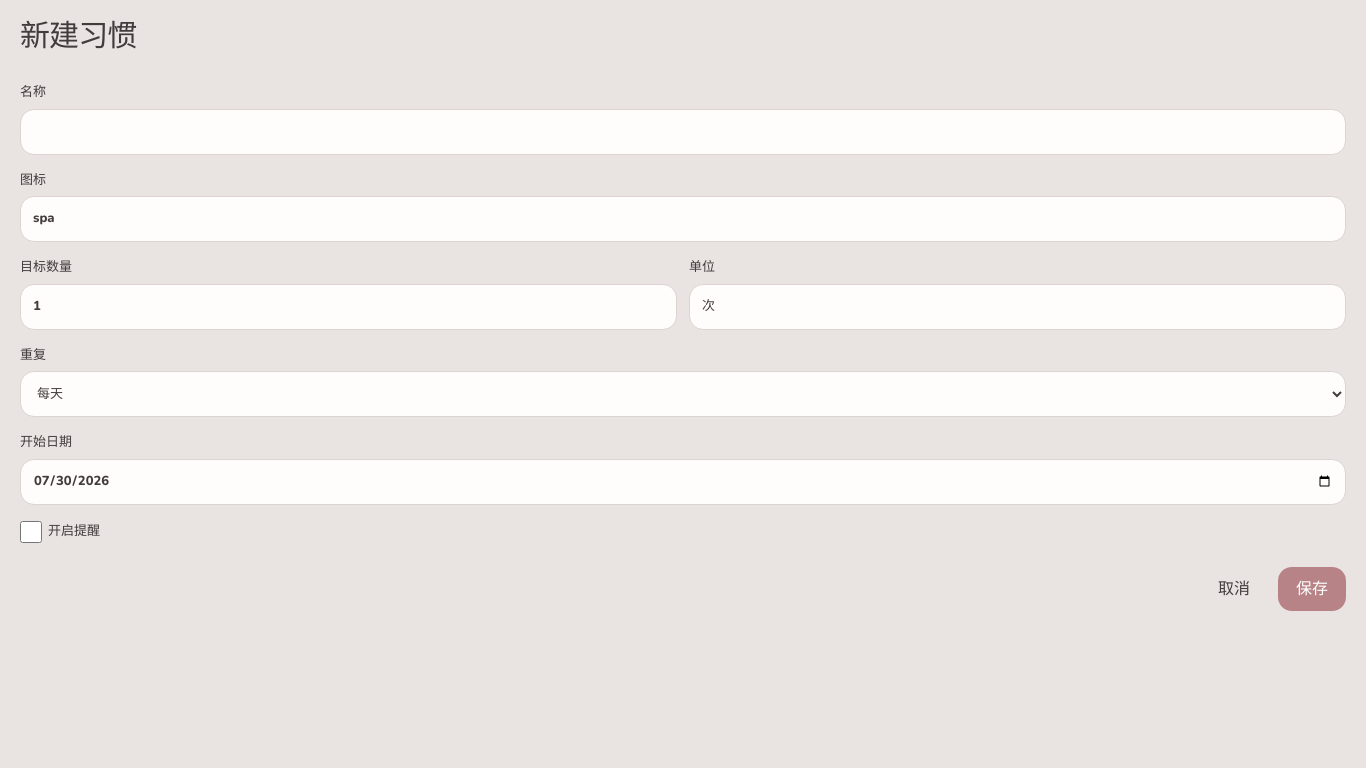
it: switches schedule fields with frequency
Select "每周" in the dropdown labelled "重复" at [683, 394], box [20,371,1346,417]
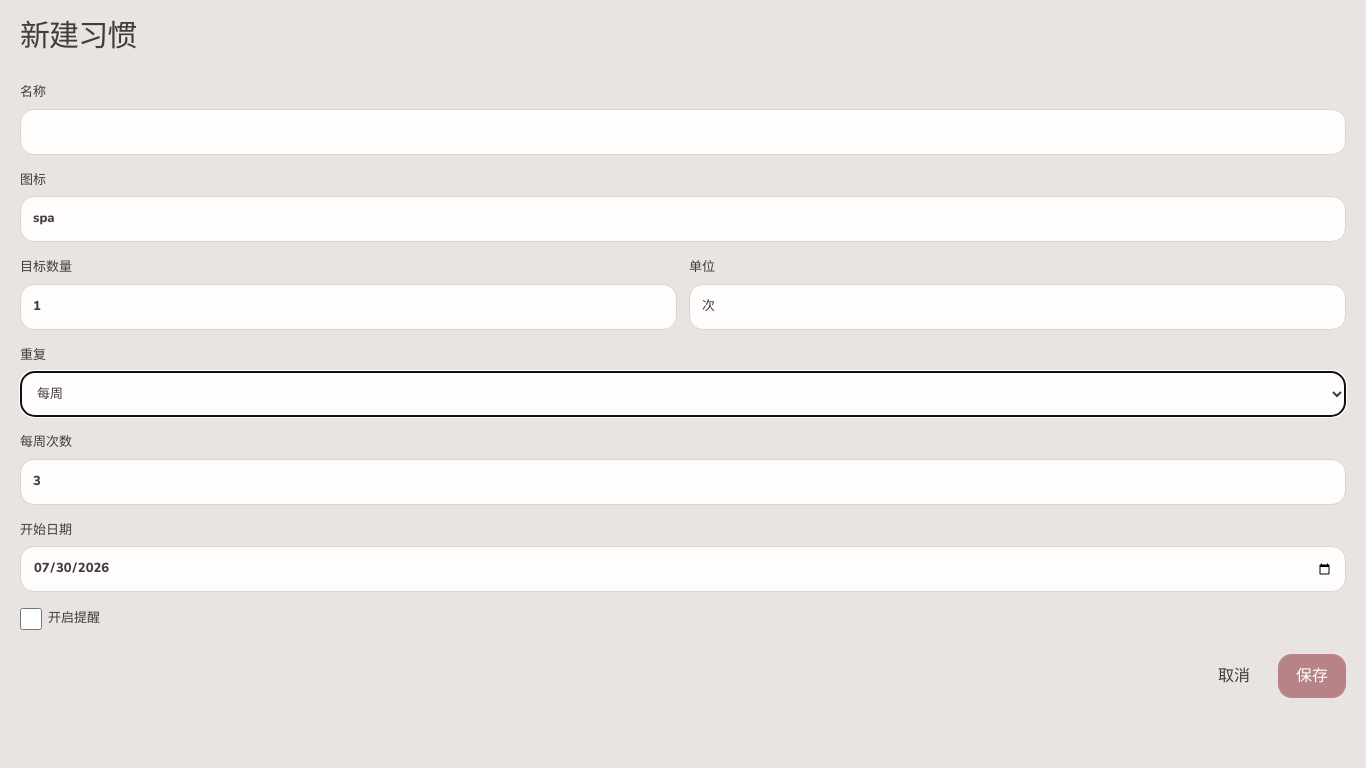
Now the number field labelled "每周次数" is shown, box [20,458,1346,504]
Select "每月" in the dropdown labelled "重复" at [683, 394], box [20,371,1346,417]
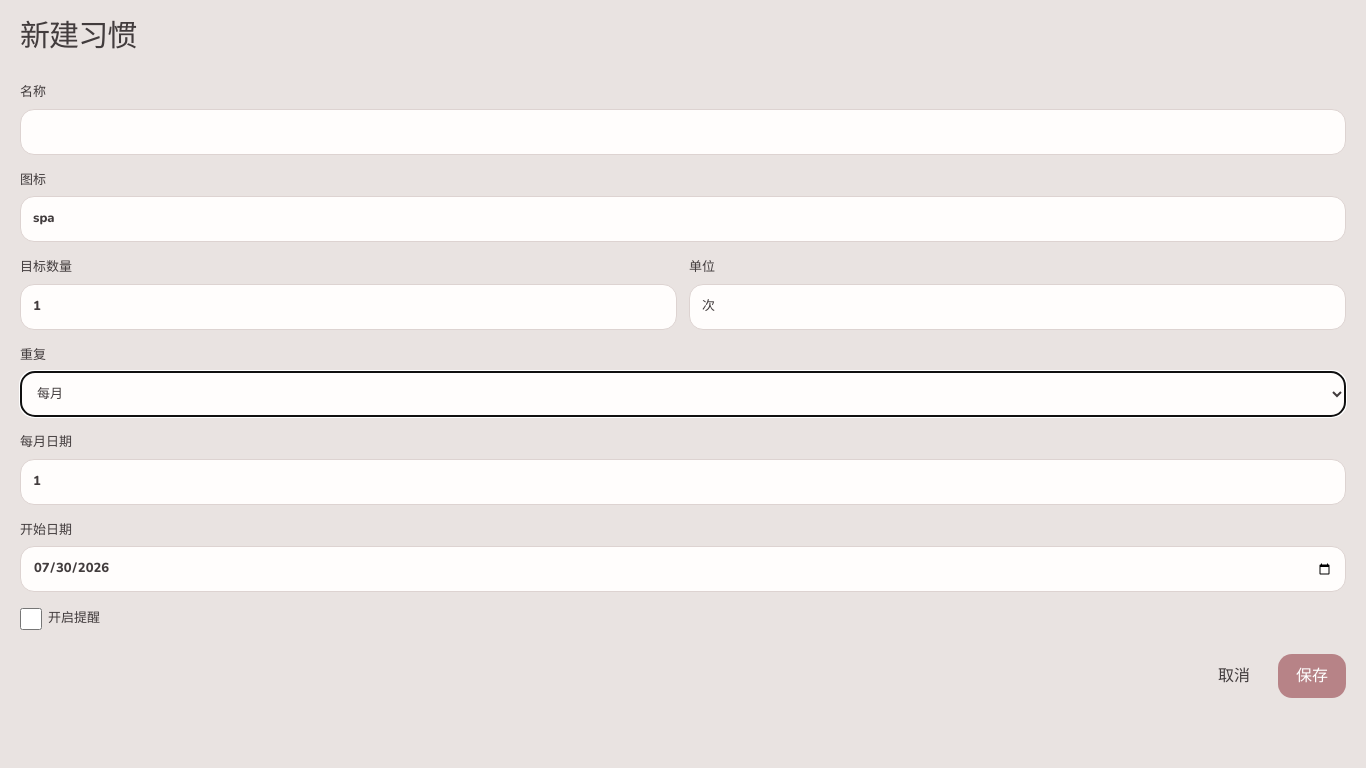
Now the number field labelled "每月日期" is shown, box [20,458,1346,504]
